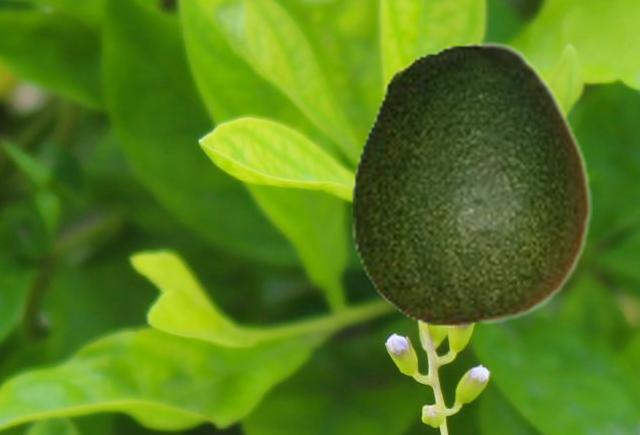avocado: (350, 41, 591, 326)
